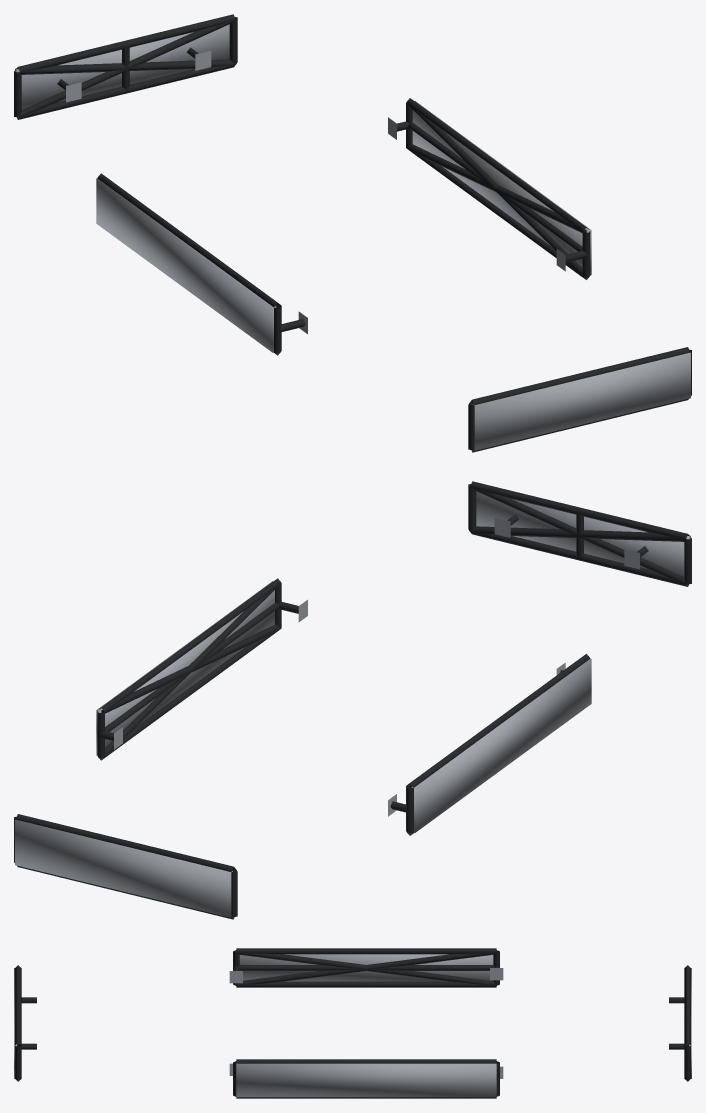
Rendered from bancroft_caravela_protecao.glb.
The picture shows the model from 3 angles, top to bottom: view 1: azimuth 30°, elevation 25°; view 2: azimuth 150°, elevation 25°; view 3: azimuth 270°, elevation 25°; orthographic projection. The views are drawn at different scales.
Parts seen in each view (by area): view 1: Protection_front_Level3_Details, Protection_left_Level3_Details, Protection_rear_Level1_Details, Protection_rear_Level3_Details, Protection_right_Level1_Details, Protection_right_Level2_Details, Protection_right_Level3_Details, Protection_rear_Level2_Details, Protection_front_Level1_Details, Protection_left_Level1_Details; view 2: Protection_rear_Level3_Details, Protection_left_Level3_Details, Protection_front_Level1_Details, Protection_front_Level3_Details, Protection_right_Level1_Details, Protection_right_Level2_Details, Protection_right_Level3_Details, Protection_front_Level2_Details, Protection_rear_Level1_Details, Protection_left_Level1_Details; view 3: Protection_right_Level3_Details, Protection_left_Level2_Details, Protection_left_Level1_Details, Protection_left_Level3_Details, Protection_right_Level1_Details, Protection_rear_Level1_Details, Protection_front_Level1_Details.
Boxes of the visible parts, left/top/right/bottom form: Protection_front_Level3_Details: left=473, top=352, right=690, bottom=450; Protection_left_Level3_Details: left=96, top=178, right=276, bottom=352; Protection_rear_Level1_Details: left=14, top=14, right=237, bottom=119; Protection_rear_Level3_Details: left=15, top=24, right=229, bottom=109; Protection_right_Level1_Details: left=388, top=98, right=590, bottom=279; Protection_right_Level2_Details: left=406, top=104, right=589, bottom=279; Protection_right_Level3_Details: left=412, top=101, right=591, bottom=275; Protection_rear_Level2_Details: left=15, top=20, right=235, bottom=118; Protection_front_Level1_Details: left=468, top=347, right=691, bottom=452; Protection_left_Level1_Details: left=97, top=173, right=307, bottom=355; Protection_rear_Level3_Details: left=15, top=819, right=232, bottom=917; Protection_left_Level3_Details: left=411, top=658, right=591, bottom=832; Protection_front_Level1_Details: left=468, top=481, right=691, bottom=586; Protection_front_Level3_Details: left=476, top=491, right=690, bottom=576; Protection_right_Level1_Details: left=97, top=578, right=307, bottom=759; Protection_right_Level2_Details: left=98, top=584, right=281, bottom=760; Protection_right_Level3_Details: left=96, top=581, right=274, bottom=755; Protection_front_Level2_Details: left=470, top=487, right=690, bottom=585; Protection_rear_Level1_Details: left=14, top=814, right=237, bottom=919; Protection_left_Level1_Details: left=388, top=654, right=590, bottom=835; Protection_right_Level3_Details: left=236, top=1063, right=496, bottom=1097; Protection_left_Level2_Details: left=236, top=951, right=496, bottom=985; Protection_left_Level1_Details: left=229, top=948, right=503, bottom=987; Protection_left_Level3_Details: left=239, top=954, right=493, bottom=981; Protection_right_Level1_Details: left=229, top=1059, right=503, bottom=1098; Protection_rear_Level1_Details: left=669, top=965, right=690, bottom=1081; Protection_front_Level1_Details: left=15, top=965, right=36, bottom=1081.
Size of the model in its own units: 2.22 by 0.354 by 5.55.
Materials: 1 (1 with a texture image).
